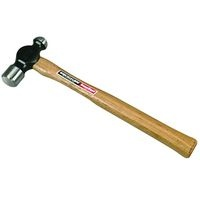hammer: (2, 35, 199, 161)
